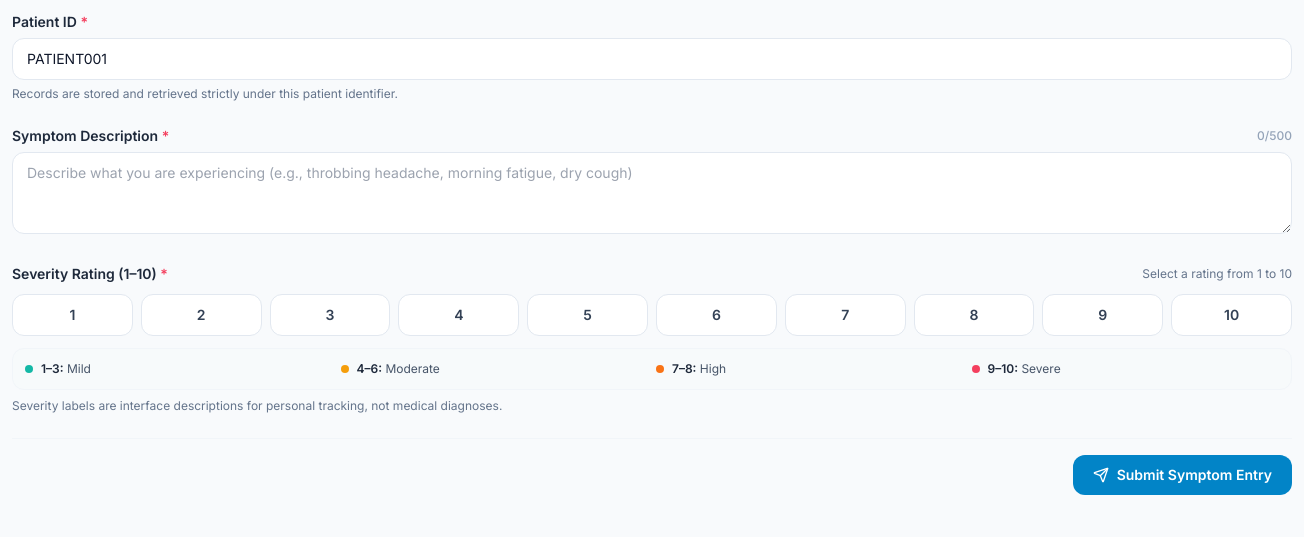
Scenario: SymptomForm › validates that severity is selected between 1 and 10
The image size is (1304, 537).
Step 1. Type "Persistent headache" into the text box labelled "Symptom Description *" → (652, 193), box [12, 152, 1292, 234]
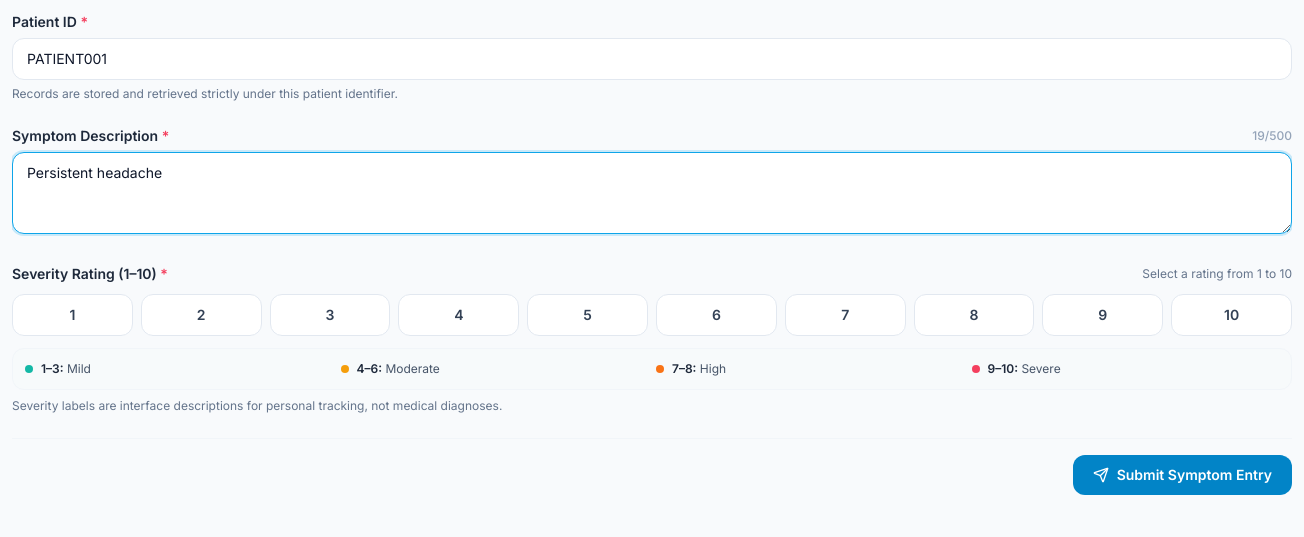
Step 2. Click the button "Submit Symptom Entry" → (1182, 475), box [1073, 455, 1292, 495]
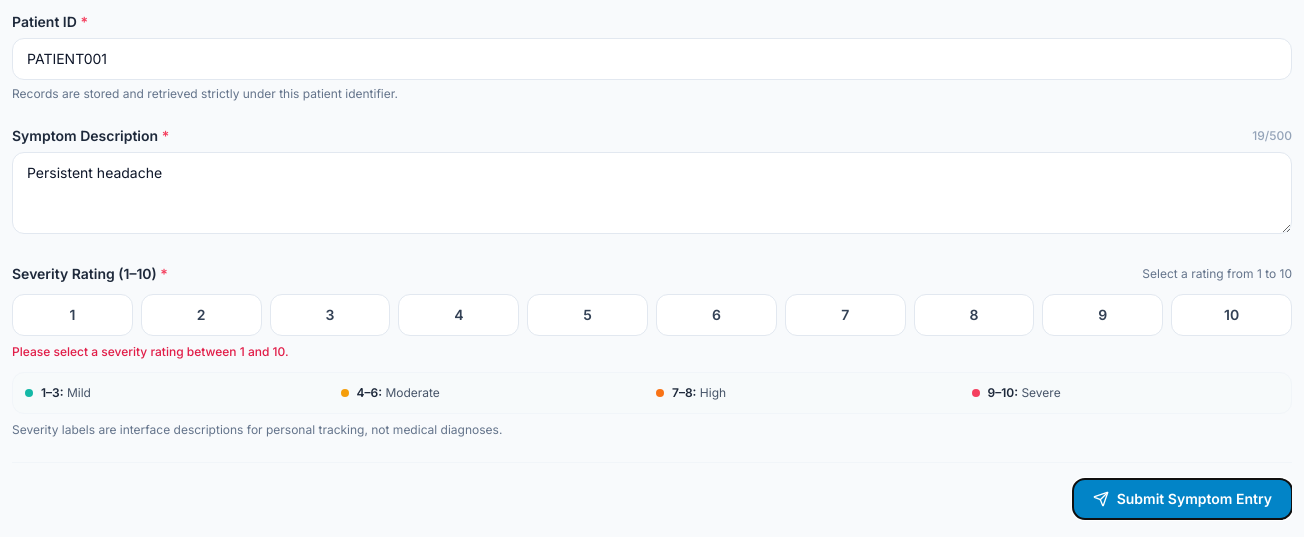
Expected: the text "Please select a severity rating between 1 and 10." is shown, [12, 344, 289, 359]
